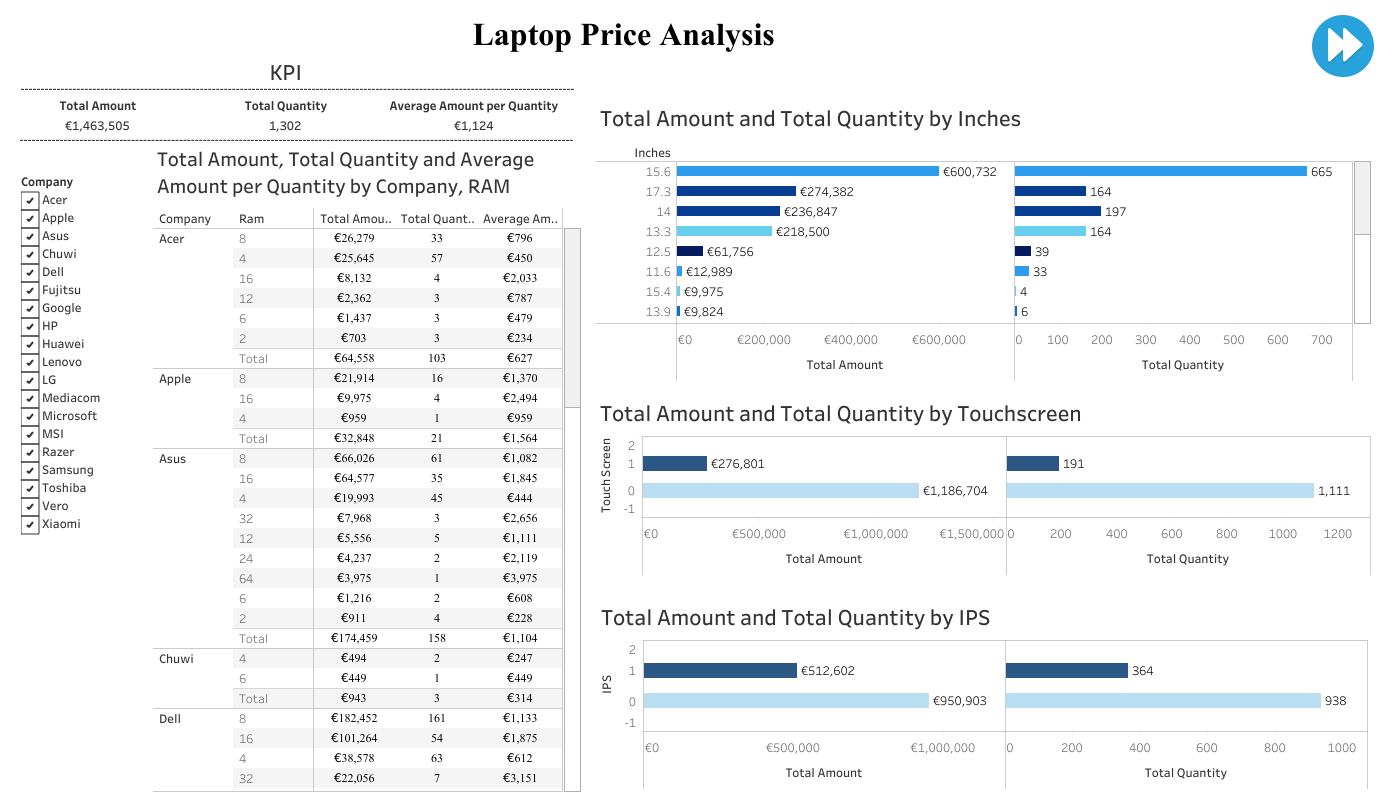

The page's visual inventory and layout, read from the dashboard file:
{"tool":"tableau","page":{"name":"Laptop Price Distribution by Features","canvas":[1400,800],"ordinal":0},"visuals":[{"type":"dashboard-object","box":[1307,15,72,62]},{"type":"text","box":[470,16,308,36]},{"type":"worksheet","title":"KPI","mark":"Automatic","box":[4,51,569,95]},{"type":"text","box":[18,73,566,30]},{"type":"worksheet","title":"Total Amount and Total Quantity by Inches","mark":"Bar","rows":["Inches"],"cols":["Calculation_15058919721685110","Calculation_15058919721767031"],"box":[596,97,776,284]},{"type":"text","box":[17,124,566,30]},{"type":"worksheet","title":"Total Amount, Total Quantity and Average Amount per Quantity by Company, RAM","mark":"Automatic","rows":["Company","Ram"],"box":[153,139,440,653]},{"type":"filter","title":"KPI","param":"[federated.0h3ya8o04ch4vb1gx1bs51kiau0g].[none:Company:nk]","box":[21,171,122,435]},{"type":"worksheet","title":"Total Amount and Total Quantity by Touchscreen","mark":"Bar","rows":["TouchScreen"],"cols":["Calculation_15058919721685110","Calculation_15058919721767031"],"box":[596,392,775,183]},{"type":"worksheet","title":"Total Amount and Total Quantity by IPS","mark":"Bar","rows":["IPS"],"cols":["Calculation_15058919721685110","Calculation_15058919721767031"],"box":[597,596,771,193]}]}

Visuals, with their boxes in screenshot pixels (x1, y1, x2, y2), scaled from the page's 1400x800 canvas onto the 1399x799 screenshot:
dashboard-object: <region>1306, 15, 1378, 77</region>
text: <region>470, 16, 777, 52</region>
"KPI" worksheet: <region>4, 51, 573, 146</region>
text: <region>18, 73, 584, 103</region>
"Total Amount and Total Quantity by Inches" worksheet (Bar marks): <region>596, 97, 1371, 381</region>
text: <region>17, 124, 583, 154</region>
"Total Amount, Total Quantity and Average Amount per Quantity by Company, RAM" worksheet: <region>153, 139, 593, 791</region>
"KPI" filter: <region>21, 171, 143, 605</region>
"Total Amount and Total Quantity by Touchscreen" worksheet (Bar marks): <region>596, 392, 1370, 574</region>
"Total Amount and Total Quantity by IPS" worksheet (Bar marks): <region>597, 595, 1367, 788</region>
